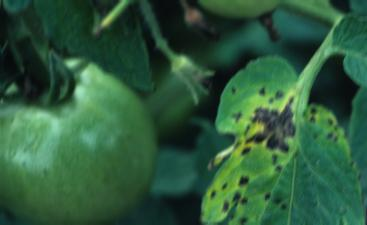Tomato Early blight leaf: (206, 55, 350, 225)
